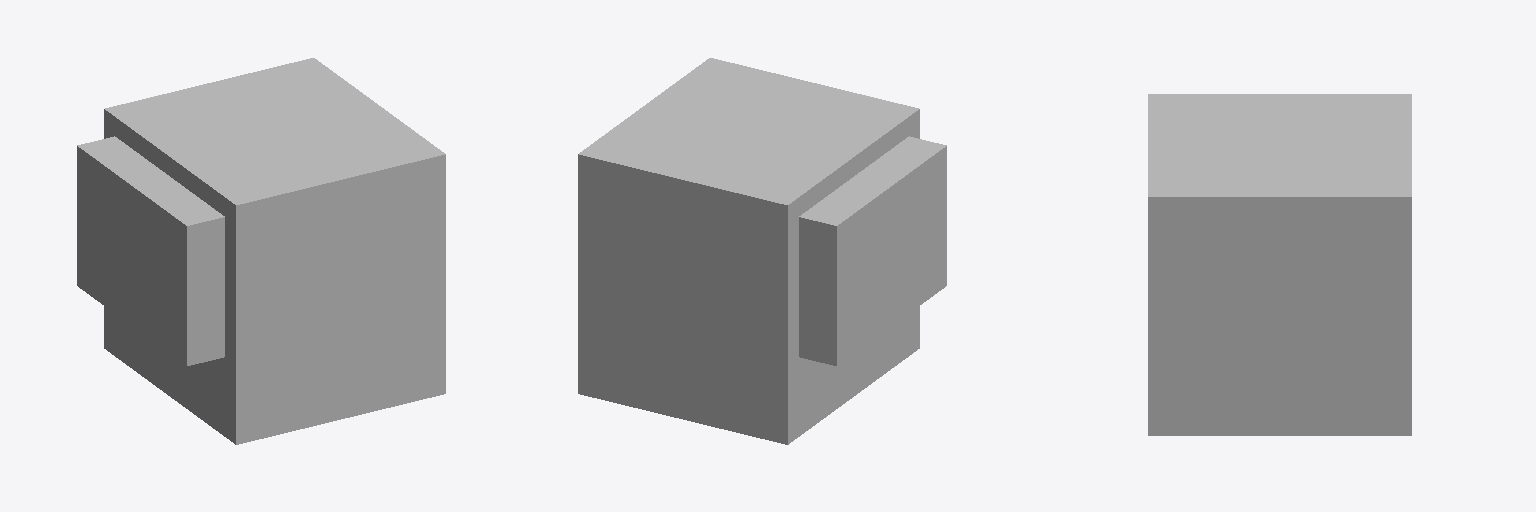
File: AdvancedTurtle.obj
3 views of the same model, side by side, from view 1: azimuth 30°, elevation 25°; view 2: azimuth 150°, elevation 25°; view 3: azimuth 270°, elevation 25° (orthographic).
Parts seen in each view (by area): view 1: turtle_[number redacted]; view 2: turtle_[number redacted]; view 3: turtle_[number redacted].
Part boxes in pixels (x1,y1,x2,y2): turtle_[number redacted]: (77, 58, 445, 444); turtle_[number redacted]: (578, 58, 946, 444); turtle_[number redacted]: (1148, 94, 1411, 435).
Bounding box in the file's own units: 3.25 × 3 × 3.